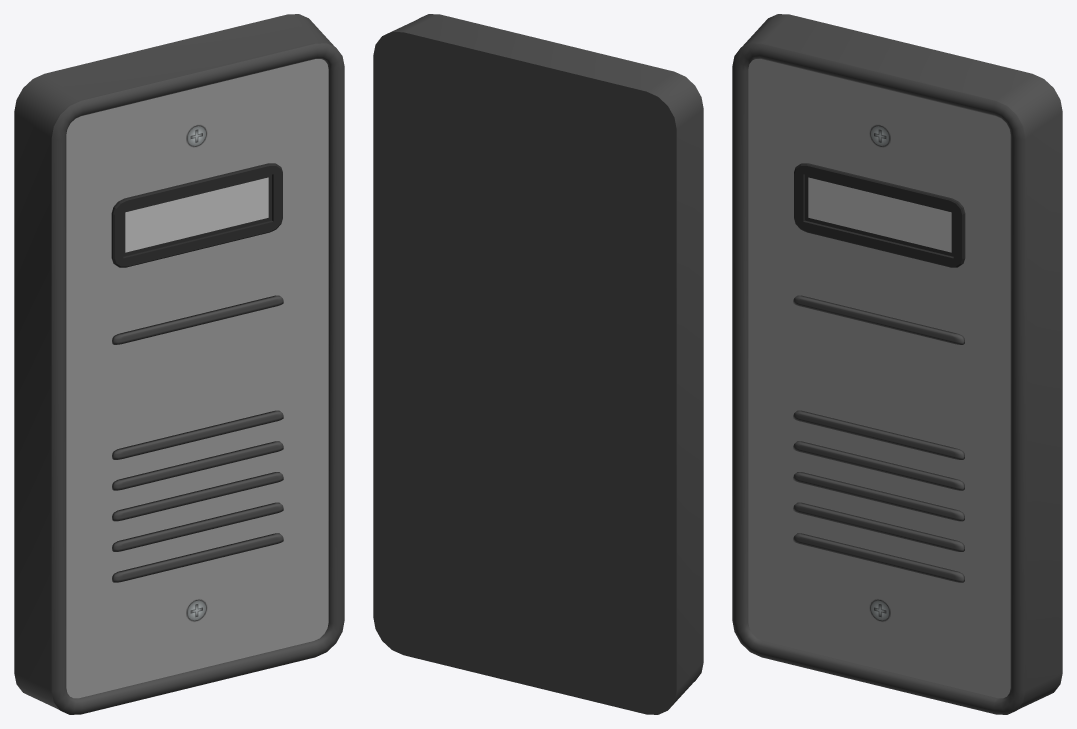
The model's file is sweethome3d-scopia-entry-speech-unit.glb.
3 renders of one model, left to right at view 1: azimuth 30°, elevation 25°; view 2: azimuth 150°, elevation 25°; view 3: azimuth 330°, elevation 25°, orthographic.
Parts seen in each view (by area): view 1: Circle, Cube.001, Plane_Plane.001, screws_Plane.004; view 2: Circle; view 3: Circle, Cube.001, Plane_Plane.001, screws_Plane.004.
Boxes of the visible parts, box(x1,y1,x2,y2) form: Circle: box(14, 14, 344, 714); Cube.001: box(112, 295, 283, 582); Plane_Plane.001: box(111, 163, 282, 267); screws_Plane.004: box(186, 125, 206, 621); Circle: box(373, 14, 703, 714); Circle: box(732, 14, 1062, 714); Cube.001: box(793, 295, 964, 582); Plane_Plane.001: box(794, 163, 965, 267); screws_Plane.004: box(870, 125, 890, 621).
Size of the model in its own units: 10.36 by 20.3 by 2.03.
7 materials, 1 textured.
